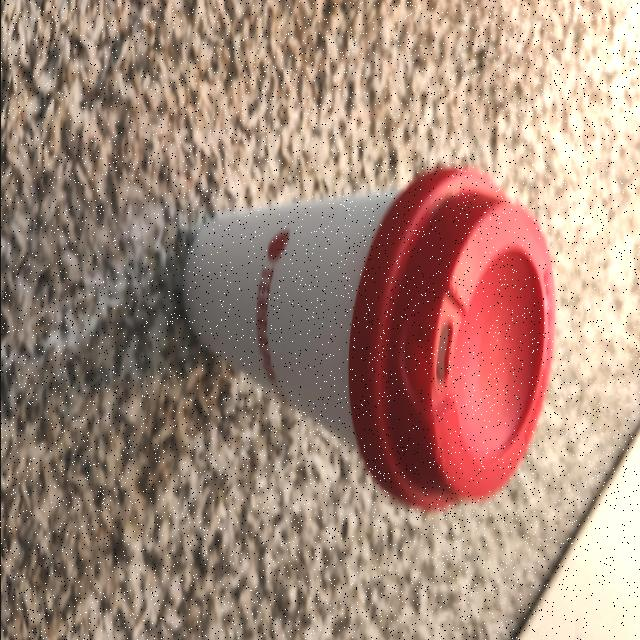mug: (183, 164, 550, 502)
